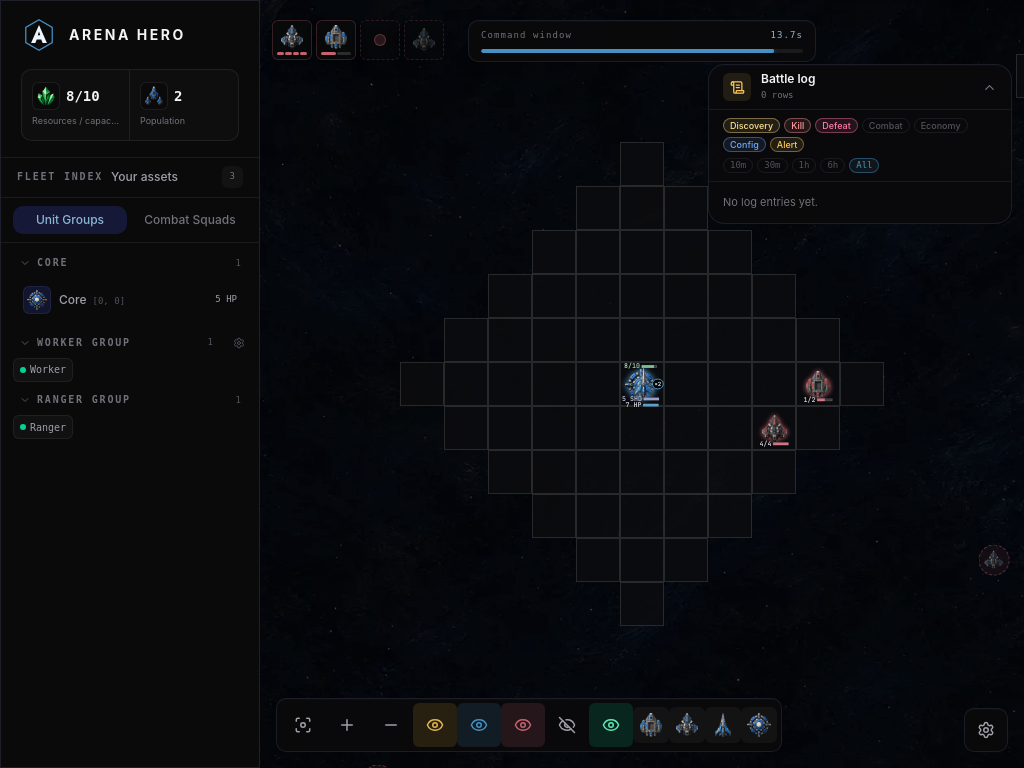
Test: ArenaPage asset selection › opens the strategy settings dialog from the bottom-right button
Click the button named "Open strategy settings".
click(986, 730)  # box [964,708,1008,752]
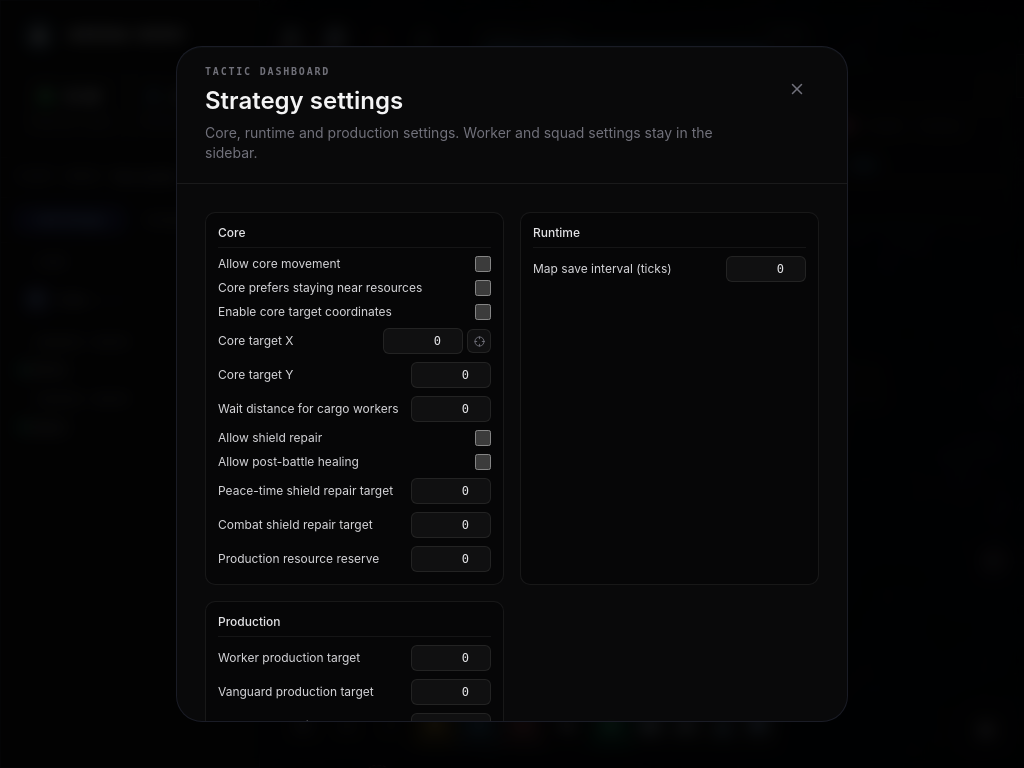
Expected: the dialog "Strategy settings" is shown, [176,46,848,722]
Click the button named "Close".
click(797, 89)  # box [775,67,819,111]
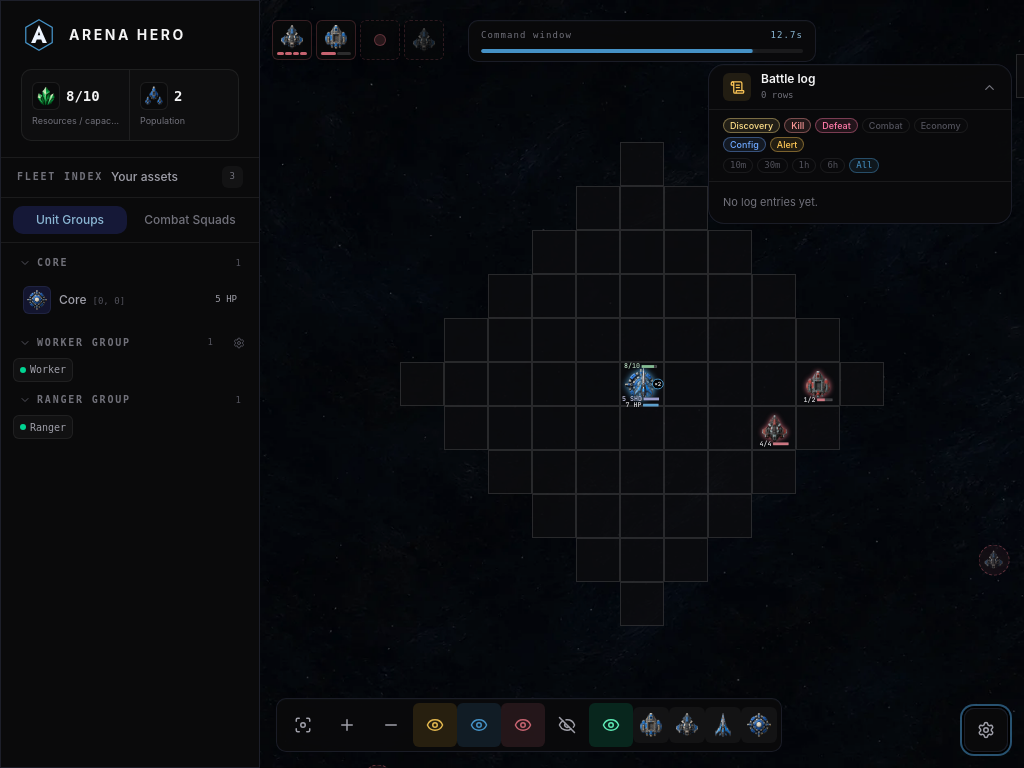
Expected: the dialog is gone
